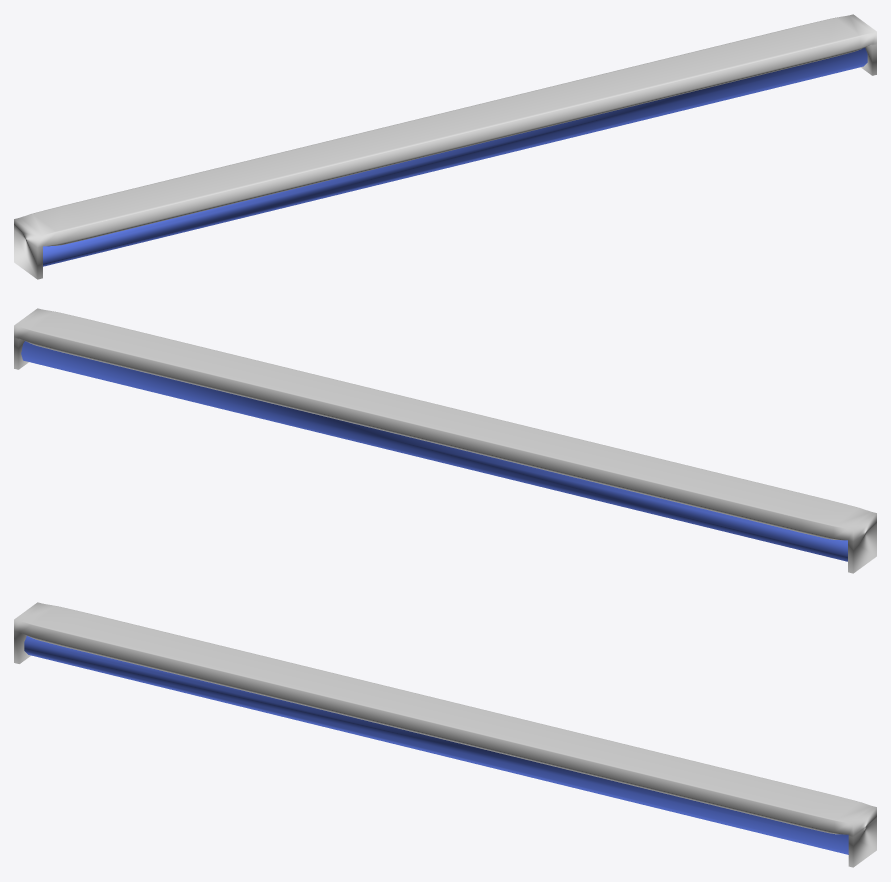
File: neon.fbx
3 views of the same model, one above another, from view 1: azimuth 30°, elevation 25°; view 2: azimuth 150°, elevation 25°; view 3: azimuth 330°, elevation 25° (orthographic).
Visible parts, largest first — view 1: Cube; view 2: Cube; view 3: Cube.
Part boxes in pixels (x1,y1,x2,y2): Cube: (14,14,876,279); Cube: (14,308,876,573); Cube: (14,602,876,867).
Size of the model in its own units: 2453 by 123 by 134.
